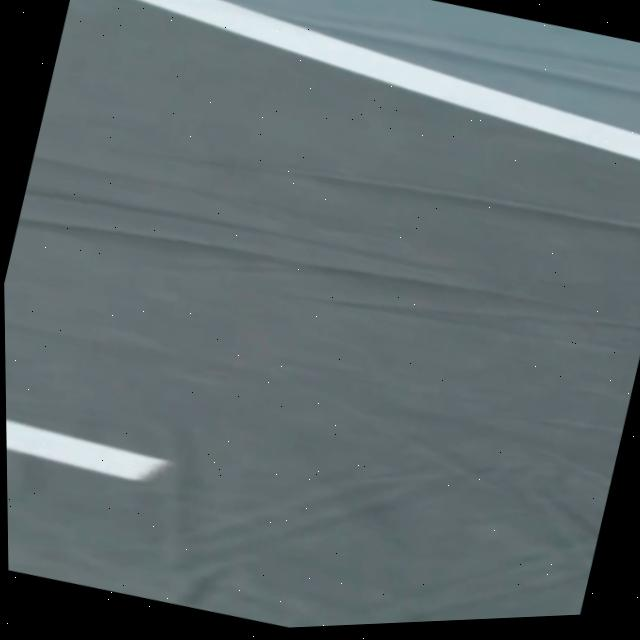center: (6, 418, 169, 479)
left: (147, 0, 640, 157)
